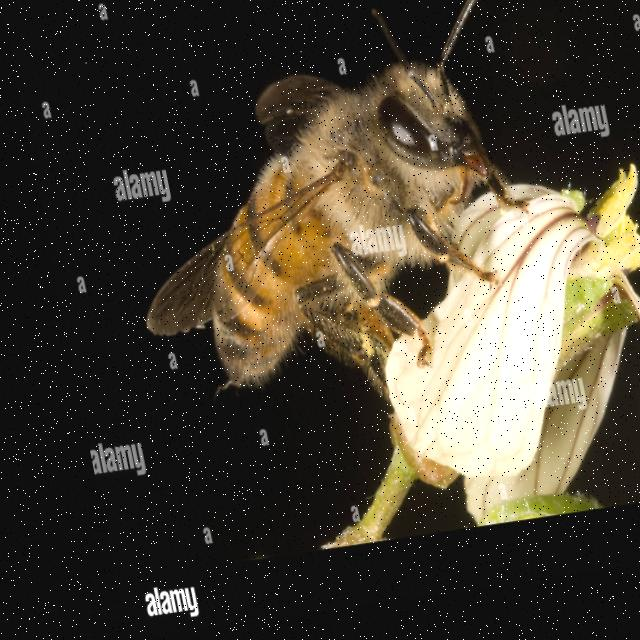Apis-mellifera-scutellata: (77, 0, 566, 466)
